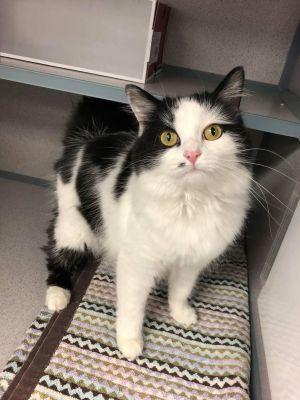ragdoll: (124, 66, 253, 192)
